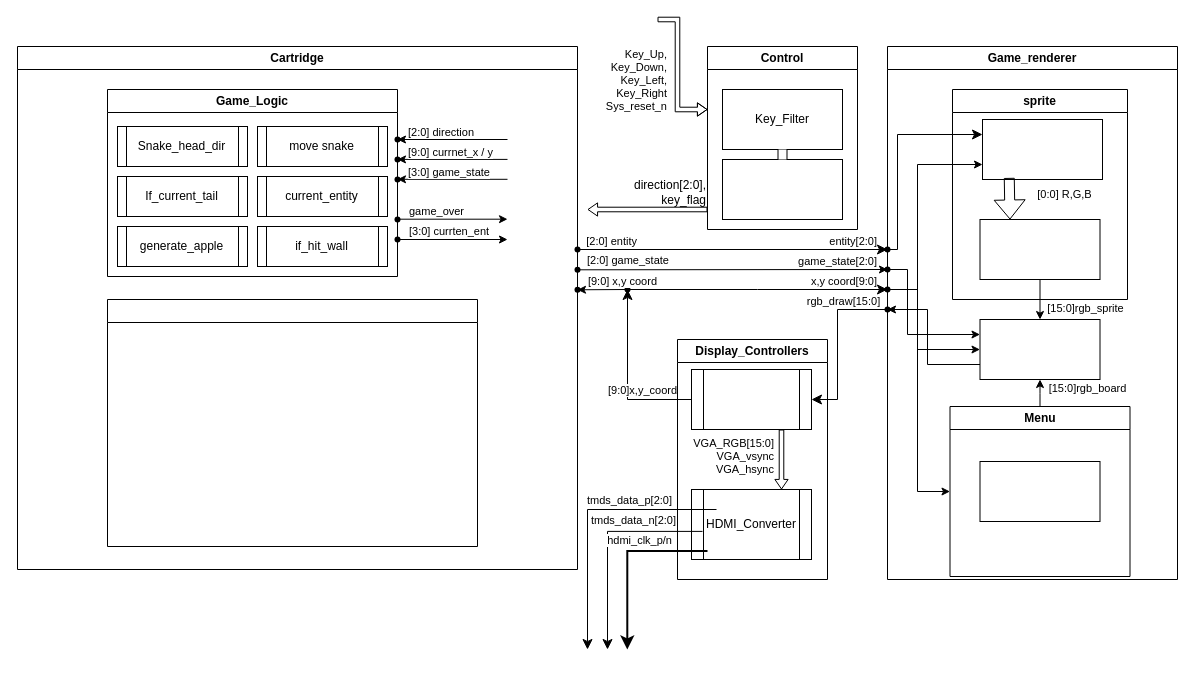
This 1195x678 diagram has some shape labels left out. The centre of each missing label's shape, as x and y in pixels:
"Game Mux" belongs at (1039,349).
"Game_FSM" belongs at (292,422).
"Key_Input" belongs at (782,189).
"Render Page" belongs at (1039,491).
"rgb_to_565" belongs at (1039,249).
"Sperit_Lib" belongs at (1042,149).
"VGA_ctrl" belongs at (751,399).
